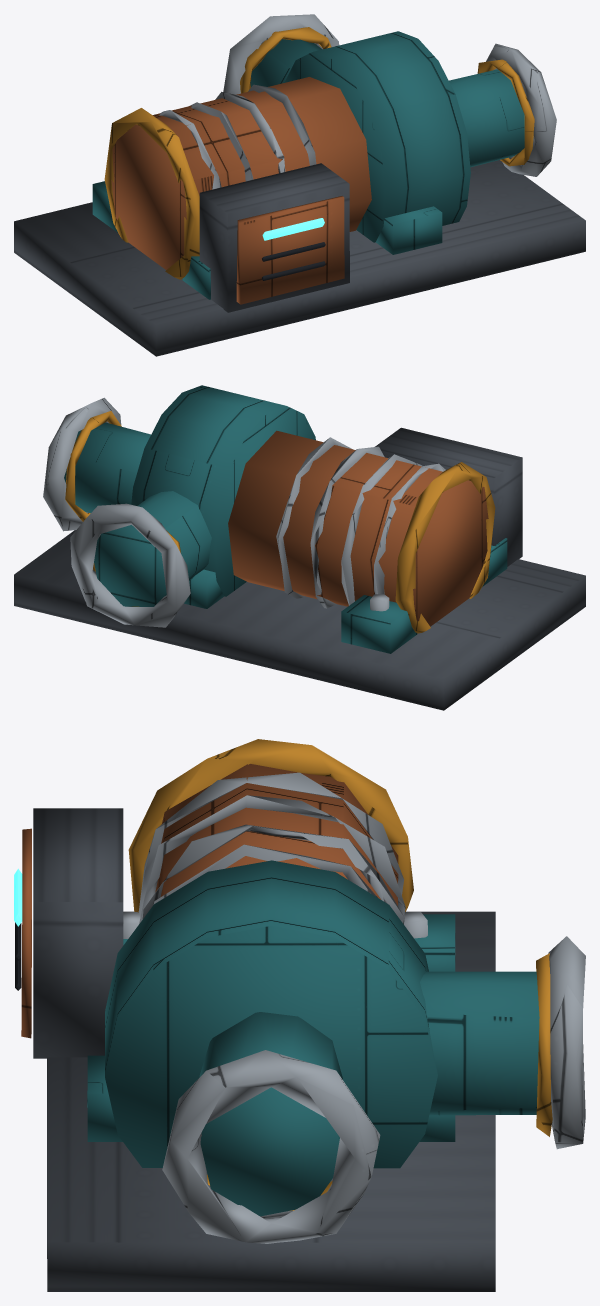
File: pump_skid_lod2.glb
The picture shows the model from 3 angles, top to bottom: view 1: azimuth 30°, elevation 25°; view 2: azimuth 150°, elevation 25°; view 3: azimuth 270°, elevation 25°; orthographic projection. The views are drawn at different scales.
Visible parts, largest first — view 1: LOD2_Mechanical, LOD2_Armor, LOD2_Hull, LOD2_BrushedMetal, LOD2_Livery, LOD2_MechanicalDark, LOD2_Lights_Cyan; view 2: LOD2_Mechanical, LOD2_Armor, LOD2_Hull, LOD2_BrushedMetal, LOD2_Livery; view 3: LOD2_Armor, LOD2_Mechanical, LOD2_BrushedMetal, LOD2_Hull, LOD2_Livery.
Boxes of the visible parts, x1,y1,x2,y2 form: LOD2_Mechanical: [14, 160, 585, 356]; LOD2_Armor: [92, 31, 524, 299]; LOD2_Hull: [111, 77, 371, 304]; LOD2_BrushedMetal: [159, 14, 556, 189]; LOD2_Livery: [104, 27, 534, 279]; LOD2_MechanicalDark: [262, 242, 325, 280]; LOD2_Lights_Cyan: [262, 218, 324, 240]; LOD2_Mechanical: [14, 427, 585, 710]; LOD2_Armor: [64, 385, 507, 653]; LOD2_Hull: [228, 430, 488, 626]; LOD2_BrushedMetal: [43, 397, 445, 627]; LOD2_Livery: [65, 411, 495, 633]; LOD2_Armor: [87, 860, 539, 1216]; LOD2_Mechanical: [33, 808, 495, 1291]; LOD2_BrushedMetal: [123, 772, 585, 1243]; LOD2_Hull: [21, 764, 398, 1038]; LOD2_Livery: [128, 739, 552, 1210].
Bounding box in the file's own units: 4.09 × 1.69 × 2.9.
Materials: 7 (6 with a texture image).
